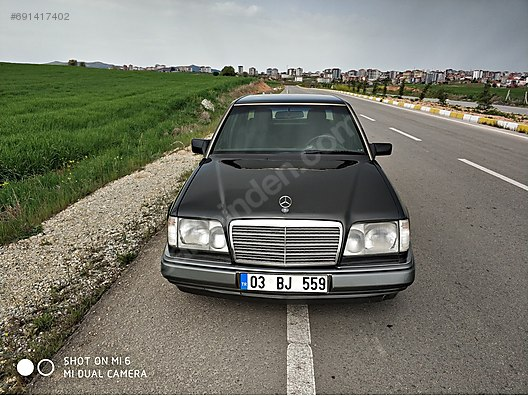mercedes: (166, 82, 419, 307)
